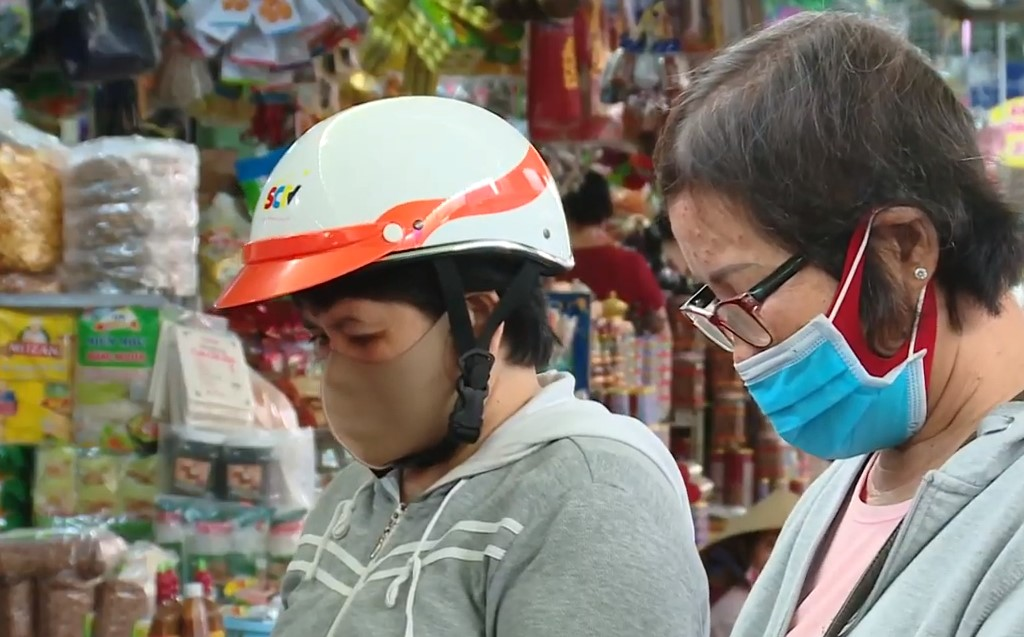face_with_mask: (655, 14, 957, 459), (214, 94, 567, 468)
